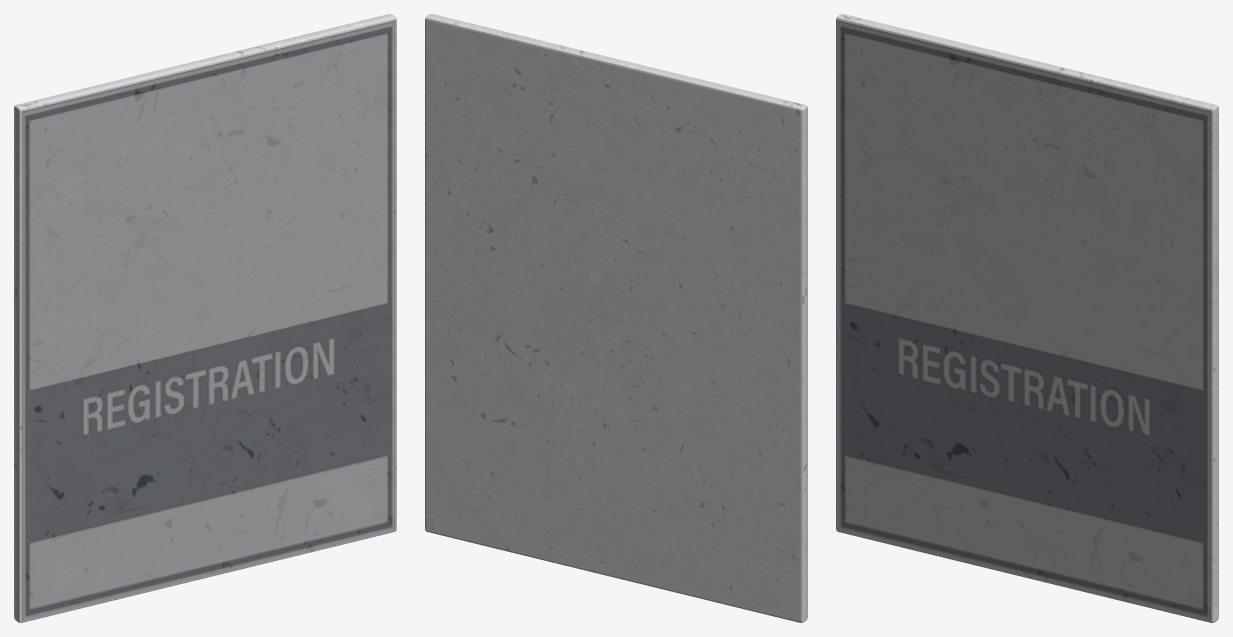
File: SM_Registration_Sign.glb
3 renders of one model, left to right at view 1: azimuth 30°, elevation 25°; view 2: azimuth 150°, elevation 25°; view 3: azimuth 330°, elevation 25°, orthographic.
Visible parts, largest first — view 1: SM_Registration_Sign; view 2: SM_Registration_Sign; view 3: SM_Registration_Sign.
Part boxes in pixels (left/top/right/bottom): SM_Registration_Sign: left=14, top=14, right=396, bottom=622; SM_Registration_Sign: left=425, top=14, right=807, bottom=622; SM_Registration_Sign: left=836, top=14, right=1218, bottom=622.
Bounding box in the file's own units: 0.5 × 0.65 × 0.015.
Materials: 2 (2 with a texture image).
